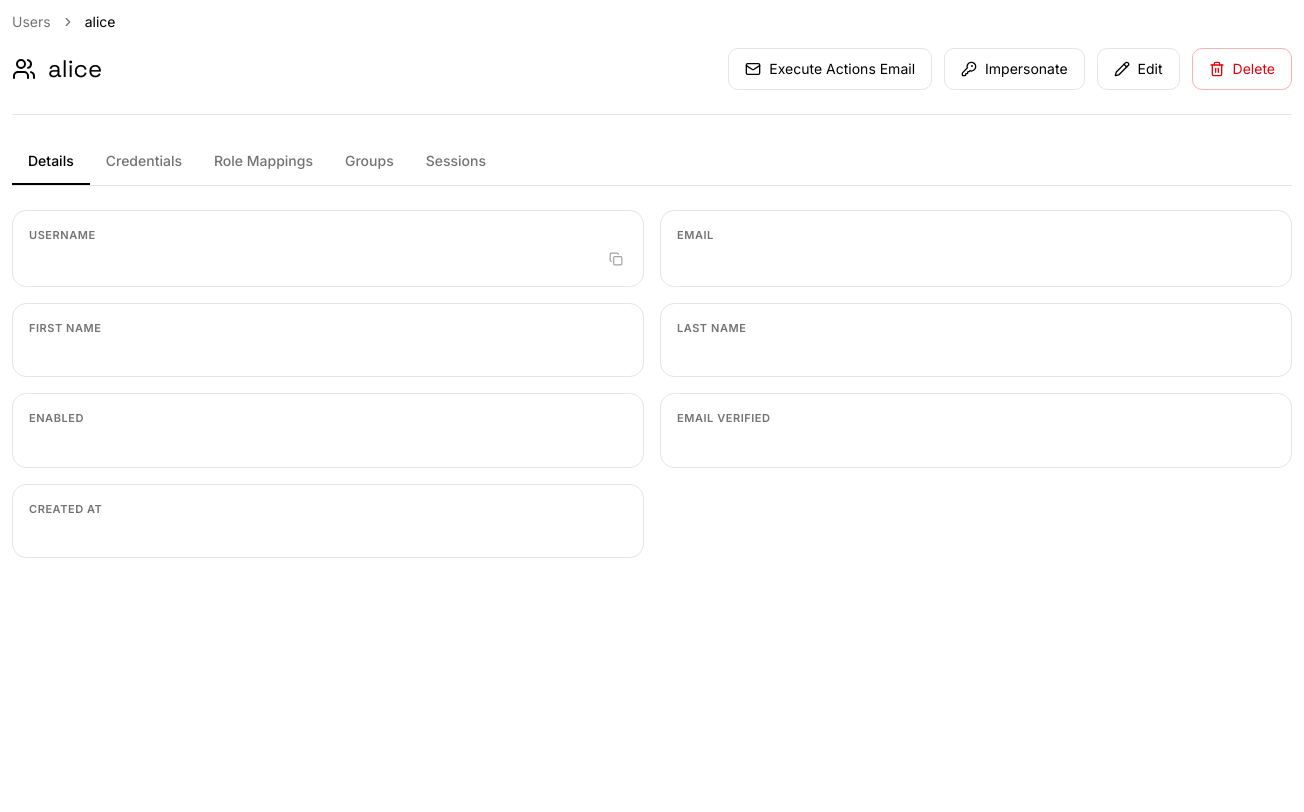
Scenario: UserDetailPage credentials tab › lists credentials with type label, user label, and priority
The image size is (1304, 812).
Click the button "Credentials" at point(144, 162), box [90,139,198,185]
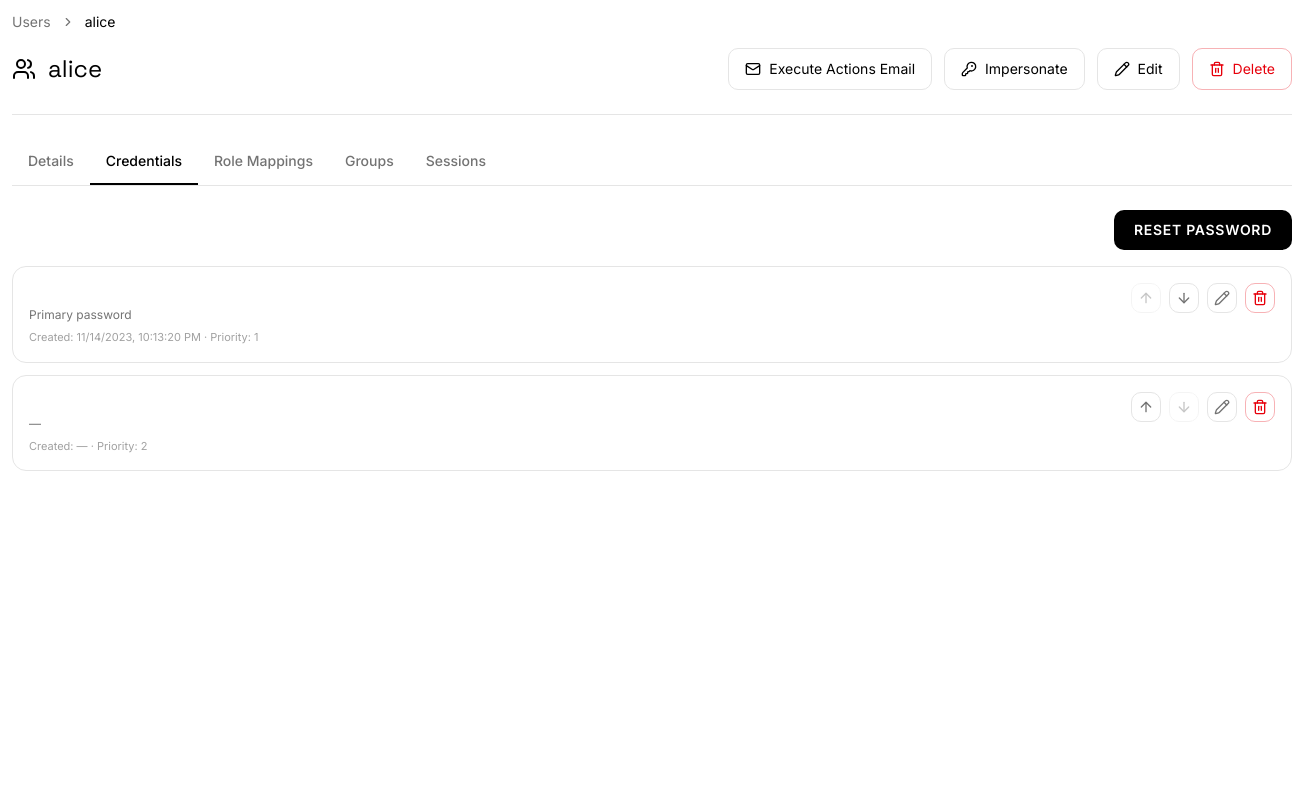
Expected: the text "Primary password" is shown, [29,307,132,322]
Expected: the text "Created: 11/14/2023, 10:13:20 PM · Priority: 1" is shown, [29,330,258,344]
Expected: the text "Created: 11/14/2023, 10:13:20 PM · Priority: 1" is shown 2 times, [29,330,258,344]; [29,438,147,452]
